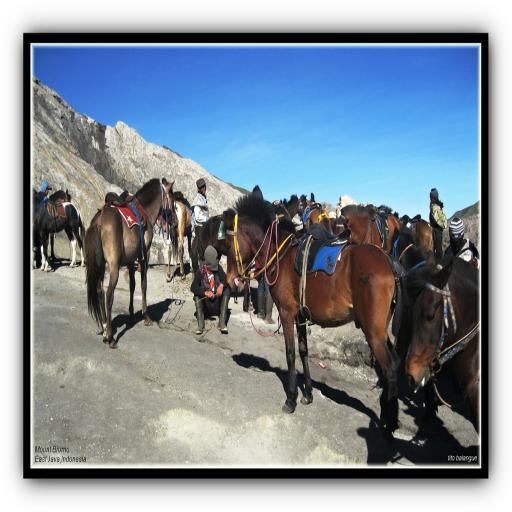Horse: (31, 176, 481, 434)
